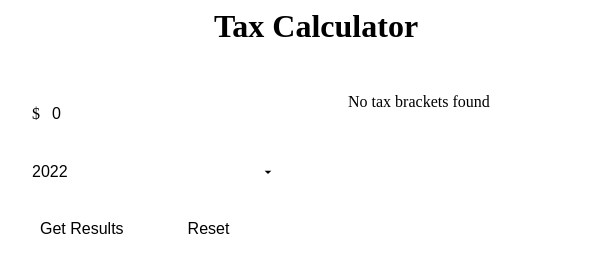
App Component › reset button clears income, year, errors, and results
Replace the text in the field with placeholder "income" with "15000": point(166, 114) x1=48 y1=93 x2=284 y2=135
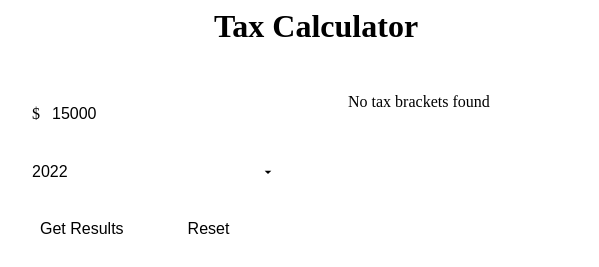
Click the button "Get Results": point(82, 229) x1=16 y1=208 x2=148 y2=250
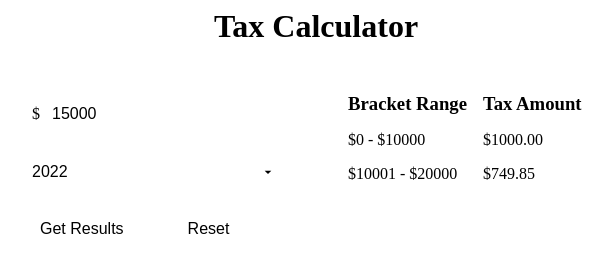
Now the text "$0 - $10000" is shown, box x1=348 y1=131 x2=425 y2=148
Click the button "Reset": point(208, 229) x1=164 y1=208 x2=253 y2=250
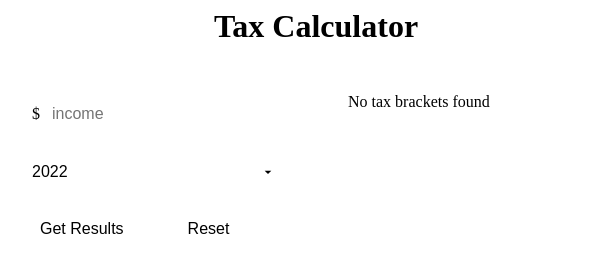
Now the field with placeholder "income" is empty, box x1=48 y1=93 x2=284 y2=135
Now the text "$0 - $10000" is gone
